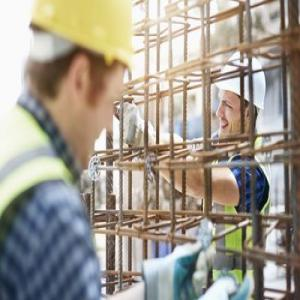white: (217, 50, 267, 139)
yellow: (30, 5, 134, 162)
